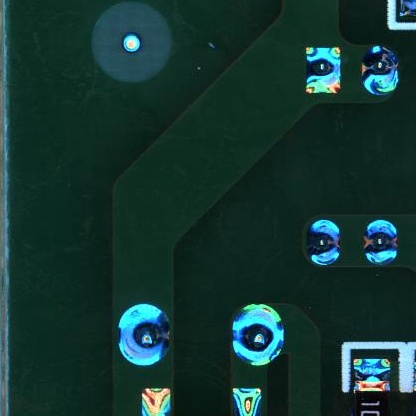spot: (232, 302, 285, 367), (118, 305, 173, 366), (362, 46, 397, 97), (365, 217, 399, 268), (307, 47, 339, 93), (308, 220, 340, 265)
